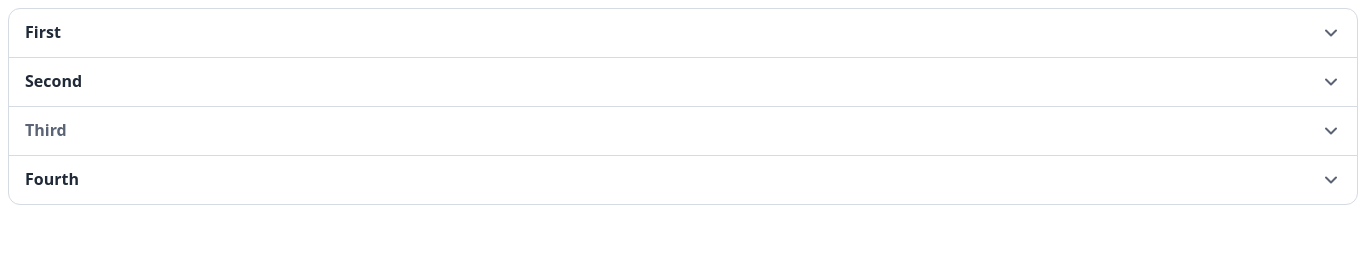
Test: Accordion structure › exposes open panels as regions named by their button
Click the button "First" at (43, 32), box [9,9,1357,57]
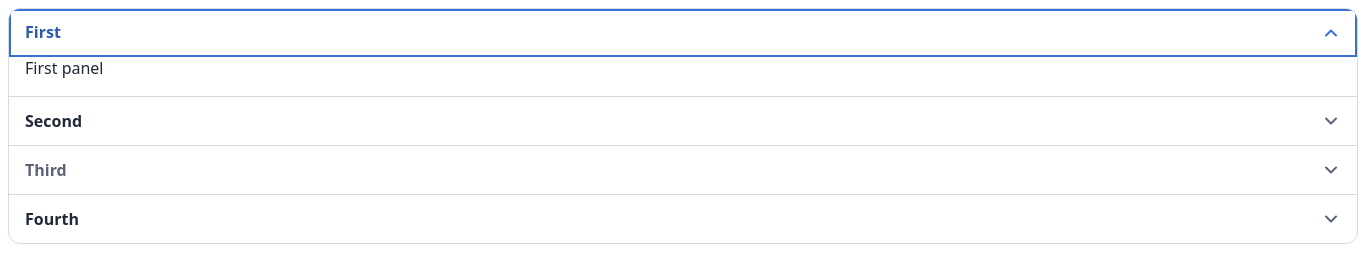
Check: the element "First" reads "First panel", box [25,57,104,79]
